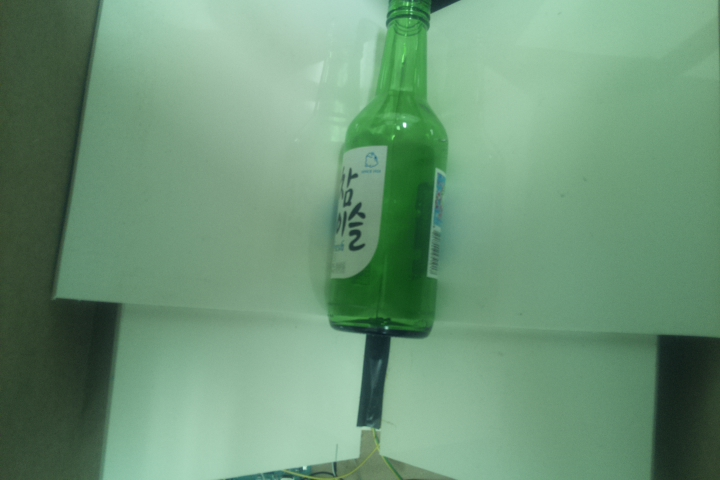soju: (326, 1, 453, 338)
